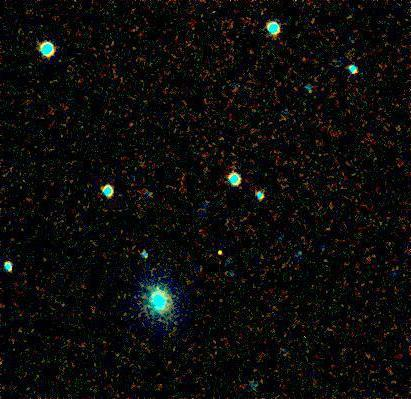star: (203, 238, 233, 268)
